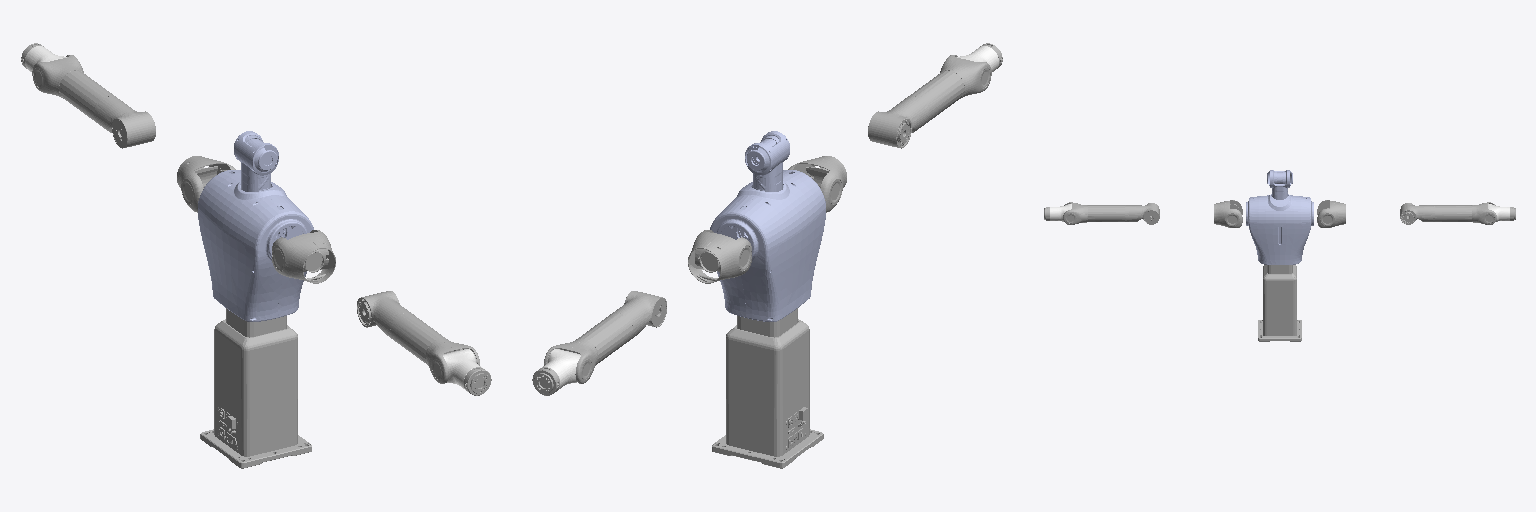
URDF robot description (TDM020-890.SLDASM):
<?xml version="1.0" encoding="utf-8"?>
<!-- This URDF was automatically created by SolidWorks to URDF Exporter! Originally created by Stephen Brawner (brawner@gmail.com) 
     Commit Version: 1.6.0-4-g7f85cfe  Build Version: 1.6.7995.38578
     For more information, please see http://wiki.ros.org/sw_urdf_exporter -->
<robot
  name="TDM020-890.SLDASM">
  <link
    name="base_link">
    <inertial>
      <origin
        xyz="-0.0001495 -3.6027E-06 0.21937"
        rpy="0 0 0" />
      <mass
        value="15.785" />
      <inertia
        ixx="0.33756"
        ixy="-9.7516E-06"
        ixz="-0.00031689"
        iyy="0.33783"
        iyz="-8.008E-07"
        izz="0.090189" />
    </inertial>
    <visual>
      <origin
        xyz="0 0 0"
        rpy="0 0 0" />
      <geometry>
        <mesh
          filename="package://TDM020-890.SLDASM/meshes/base_link.STL" />
      </geometry>
      <material
        name="">
        <color
          rgba="0.75294 0.75294 0.75294 1" />
      </material>
    </visual>
    <collision>
      <origin
        xyz="0 0 0"
        rpy="0 0 0" />
      <geometry>
        <mesh
          filename="package://TDM020-890.SLDASM/meshes/base_link.STL" />
      </geometry>
    </collision>
  </link>
  <link
    name="body_Link">
    <inertial>
      <origin
        xyz="0.00094571 0.00017849 0.17947"
        rpy="0 0 0" />
      <mass
        value="14.446" />
      <inertia
        ixx="0.1966"
        ixy="-2.4774E-07"
        ixz="0.0011953"
        iyy="0.17822"
        iyz="0.00017251"
        izz="0.12295" />
    </inertial>
    <visual>
      <origin
        xyz="0 0 0"
        rpy="0 0 0" />
      <geometry>
        <mesh
          filename="package://TDM020-890.SLDASM/meshes/body_Link.STL" />
      </geometry>
      <material
        name="">
        <color
          rgba="0.79216 0.81961 0.93333 1" />
      </material>
    </visual>
    <collision>
      <origin
        xyz="0 0 0"
        rpy="0 0 0" />
      <geometry>
        <mesh
          filename="package://TDM020-890.SLDASM/meshes/body_Link.STL" />
      </geometry>
    </collision>
  </link>
  <joint
    name="body_Joint"
    type="revolute">
    <origin
      xyz="0 0 0.466"
      rpy="0 0 0" />
    <parent
      link="base_link" />
    <child
      link="body_Link" />
    <axis
      xyz="0 0 1" />
    <limit
      lower="-2.9671"
      upper="2.9671"
      effort="0"
      velocity="0" />
  </joint>
  <link
    name="neck_Link">
    <inertial>
      <origin
        xyz="-0.00033371 -0.0010891 0.027893"
        rpy="0 0 0" />
      <mass
        value="1.1245" />
      <inertia
        ixx="0.0038932"
        ixy="-1.7095E-06"
        ixz="2.1875E-05"
        iyy="0.0034122"
        iyz="6.0516E-05"
        izz="0.0014205" />
    </inertial>
    <visual>
      <origin
        xyz="0 0 0"
        rpy="0 0 0" />
      <geometry>
        <mesh
          filename="package://TDM020-890.SLDASM/meshes/neck_Link.STL" />
      </geometry>
      <material
        name="">
        <color
          rgba="0.79216 0.81961 0.93333 1" />
      </material>
    </visual>
    <collision>
      <origin
        xyz="0 0 0"
        rpy="0 0 0" />
      <geometry>
        <mesh
          filename="package://TDM020-890.SLDASM/meshes/neck_Link.STL" />
      </geometry>
    </collision>
  </link>
  <joint
    name="neck_Joint"
    type="revolute">
    <origin
      xyz="0 0 0.404"
      rpy="0 0 0" />
    <parent
      link="body_Link" />
    <child
      link="neck_Link" />
    <axis
      xyz="0 0 1" />
    <limit
      lower="-1.5708"
      upper="1.5708"
      effort="0"
      velocity="0" />
  </joint>
  <link
    name="head_Link">
    <inertial>
      <origin
        xyz="0.079009 0.0010522 0.010199"
        rpy="0 0 0" />
      <mass
        value="0.65666" />
      <inertia
        ixx="0.0051807"
        ixy="4.6113E-05"
        ixz="0.0001544"
        iyy="0.002422"
        iyz="7.378E-06"
        izz="0.0065769" />
    </inertial>
    <visual>
      <origin
        xyz="0 0 0"
        rpy="0 0 0" />
      <geometry>
        <mesh
          filename="package://TDM020-890.SLDASM/meshes/head_Link.STL" />
      </geometry>
      <material
        name="">
        <color
          rgba="0.75294 0.75294 0.75294 1" />
      </material>
    </visual>
    <collision>
      <origin
        xyz="0 0 0"
        rpy="0 0 0" />
      <geometry>
        <mesh
          filename="package://TDM020-890.SLDASM/meshes/head_Link.STL" />
      </geometry>
    </collision>
  </link>
  <joint
    name="head_Joint"
    type="revolute">
    <origin
      xyz="0 0 0.0755"
      rpy="0 0 0" />
    <parent
      link="neck_Link" />
    <child
      link="head_Link" />
    <axis
      xyz="0 1 0" />
    <limit
      lower="-0.78539"
      upper="0.48869"
      effort="0"
      velocity="0" />
  </joint>
  <link
    name="left arm base_Link">
    <inertial>
      <origin
        xyz="0.0010944 0.10318 0.00096001"
        rpy="0 0 0" />
      <mass
        value="1.6113" />
      <inertia
        ixx="0.0061621"
        ixy="-8.3896E-05"
        ixz="1.617E-06"
        iyy="0.0024512"
        iyz="-2.8093E-05"
        izz="0.0061822" />
    </inertial>
    <visual>
      <origin
        xyz="0 0 0"
        rpy="0 0 0" />
      <geometry>
        <mesh
          filename="package://TDM020-890.SLDASM/meshes/left arm base_Link.STL" />
      </geometry>
      <material
        name="">
        <color
          rgba="0.75294 0.75294 0.75294 1" />
      </material>
    </visual>
    <collision>
      <origin
        xyz="0 0 0"
        rpy="0 0 0" />
      <geometry>
        <mesh
          filename="package://TDM020-890.SLDASM/meshes/left arm base_Link.STL" />
      </geometry>
    </collision>
  </link>
  <joint
    name="left arm base_Joint"
    type="revolute">
    <origin
      xyz="0 0.1127 0.262"
      rpy="0 0 0" />
    <parent
      link="body_Link" />
    <child
      link="left arm base_Link" />
    <axis
      xyz="0 1 0" />
    <limit
      lower="-2.9671"
      upper="2.9671"
      effort="0"
      velocity="0" />
  </joint>
  <link
    name="left shoulder_Link">
    <inertial>
      <origin
        xyz="-0.000538982573944719 0.0173300425857268 -0.00107715239347117"
        rpy="0 0 0" />
      <mass
        value="0.608892487155027" />
      <inertia
        ixx="0.00143992130190144"
        ixy="-7.82951546310692E-06"
        ixz="-2.16912679083468E-06"
        iyy="0.00261755275283589"
        iyz="-6.10436839419332E-05"
        izz="0.00300247370189256" />
    </inertial>
    <visual>
      <origin
        xyz="0 0 0"
        rpy="0 0 0" />
      <geometry>
        <mesh
          filename="package://TDM020-890.SLDASM/meshes/left shoulder_Link.STL" />
      </geometry>
      <material
        name="">
        <color
          rgba="0.752941176470588 0.752941176470588 0.752941176470588 1" />
      </material>
    </visual>
    <collision>
      <origin
        xyz="0 0 0"
        rpy="0 0 0" />
      <geometry>
        <mesh
          filename="package://TDM020-890.SLDASM/meshes/left shoulder_Link.STL" />
      </geometry>
    </collision>
  </link>
  <joint
    name="left shoulder_Joint"
    type="revolute">
    <origin
      xyz="0 0.1523 0"
      rpy="0 0 0" />
    <parent
      link="left arm base_Link" />
    <child
      link="left shoulder_Link" />
    <axis
      xyz="1 0 0" />
    <limit
      lower="-1.5708"
      upper="0.52359"
      effort="0"
      velocity="0" />
  </joint>
  <link
    name="left arm 1_Link">
    <inertial>
      <origin
        xyz="0.000597144263033743 0.0949423265822045 0.000705988249386169"
        rpy="0 0 0" />
      <mass
        value="1.48192609711033" />
      <inertia
        ixx="0.00379093634508639"
        ixy="9.65238119276592E-07"
        ixz="-3.59680287640811E-06"
        iyy="0.00223978782873642"
        iyz="-3.25468438033175E-05"
        izz="0.00364611038977401" />
    </inertial>
    <visual>
      <origin
        xyz="0 0 0"
        rpy="0 0 0" />
      <geometry>
        <mesh
          filename="package://TDM020-890.SLDASM/meshes/left arm 1_Link.STL" />
      </geometry>
      <material
        name="">
        <color
          rgba="0.772549019607843 0.752941176470588 0.733333333333333 1" />
      </material>
    </visual>
    <collision>
      <origin
        xyz="0 0 0"
        rpy="0 0 0" />
      <geometry>
        <mesh
          filename="package://TDM020-890.SLDASM/meshes/left arm 1_Link.STL" />
      </geometry>
    </collision>
  </link>
  <joint
    name="left arm 1_Joint"
    type="revolute">
    <origin
      xyz="0 0.1045 0"
      rpy="0 0 0" />
    <parent
      link="left shoulder_Link" />
    <child
      link="left arm 1_Link" />
    <axis
      xyz="0 1 0" />
    <limit
      lower="-2.7053"
      upper="2.7053"
      effort="0"
      velocity="0" />
  </joint>
  <link
    name="left arm 2_Link">
    <inertial>
      <origin
        xyz="0.000114336410574647 0.114506794118008 0.000903757611068645"
        rpy="0 0 0" />
      <mass
        value="1.60587175550599" />
      <inertia
        ixx="0.0202783083213348"
        ixy="1.89421731684835E-05"
        ixz="-7.9286303052035E-09"
        iyy="0.0017763892225382"
        iyz="0.000104210861964569"
        izz="0.0203774102170405" />
    </inertial>
    <visual>
      <origin
        xyz="0 0 0"
        rpy="0 0 0" />
      <geometry>
        <mesh
          filename="package://TDM020-890.SLDASM/meshes/left arm 2_Link.STL" />
      </geometry>
      <material
        name="">
        <color
          rgba="0.752941176470588 0.752941176470588 0.752941176470588 1" />
      </material>
    </visual>
    <collision>
      <origin
        xyz="0 0 0"
        rpy="0 0 0" />
      <geometry>
        <mesh
          filename="package://TDM020-890.SLDASM/meshes/left arm 2_Link.STL" />
      </geometry>
    </collision>
  </link>
  <joint
    name="left arm 2_Joint"
    type="revolute">
    <origin
      xyz="0 0.3455 0"
      rpy="0 0 0" />
    <parent
      link="left arm 1_Link" />
    <child
      link="left arm 2_Link" />
    <axis
      xyz="1 0 0" />
    <limit
      lower="-2.0944"
      upper="0.52359"
      effort="0"
      velocity="0" />
  </joint>
  <link
    name="left wrist 1_Link">
    <inertial>
      <origin
        xyz="-0.000126439258697366 0.0540428643424122 0.00133769576061538"
        rpy="0 0 0" />
      <mass
        value="0.292165661424284" />
      <inertia
        ixx="0.000469324584383462"
        ixy="6.89772110222396E-06"
        ixz="5.9246823221093E-07"
        iyy="0.000633054742992921"
        iyz="-7.87027707461064E-06"
        izz="0.00082086344901152" />
    </inertial>
    <visual>
      <origin
        xyz="0 0 0"
        rpy="0 0 0" />
      <geometry>
        <mesh
          filename="package://TDM020-890.SLDASM/meshes/left wrist 1_Link.STL" />
      </geometry>
      <material
        name="">
        <color
          rgba="0.752941176470588 0.752941176470588 0.752941176470588 1" />
      </material>
    </visual>
    <collision>
      <origin
        xyz="0 0 0"
        rpy="0 0 0" />
      <geometry>
        <mesh
          filename="package://TDM020-890.SLDASM/meshes/left wrist 1_Link.STL" />
      </geometry>
    </collision>
  </link>
  <joint
    name="left wrist 1_Joint"
    type="revolute">
    <origin
      xyz="0 0.3565 0"
      rpy="0 0 0" />
    <parent
      link="left arm 2_Link" />
    <child
      link="left wrist 1_Link" />
    <axis
      xyz="0 1 0" />
    <limit
      lower="-2.9322"
      upper="2.9322"
      effort="0"
      velocity="0" />
  </joint>
  <link
    name="left wrist 2_Link">
    <inertial>
      <origin
        xyz="0.000474516908238931 0.0384898179200883 -0.000147883576470775"
        rpy="0 0 0" />
      <mass
        value="0.89246599313403" />
      <inertia
        ixx="0.00213690080463157"
        ixy="1.82237073011047E-05"
        ixz="-1.81630130576625E-08"
        iyy="0.000929510723686978"
        iyz="-3.76497194559588E-06"
        izz="0.00223095731902122" />
    </inertial>
    <visual>
      <origin
        xyz="0 0 0"
        rpy="0 0 0" />
      <geometry>
        <mesh
          filename="package://TDM020-890.SLDASM/meshes/left wrist 2_Link.STL" />
      </geometry>
      <material
        name="">
        <color
          rgba="1 1 1 1" />
      </material>
    </visual>
    <collision>
      <origin
        xyz="0 0 0"
        rpy="0 0 0" />
      <geometry>
        <mesh
          filename="package://TDM020-890.SLDASM/meshes/left wrist 2_Link.STL" />
      </geometry>
    </collision>
  </link>
  <joint
    name="left wrist 2_Joint"
    type="revolute">
    <origin
      xyz="0 0.0935 0"
      rpy="0 0 0" />
    <parent
      link="left wrist 1_Link" />
    <child
      link="left wrist 2_Link" />
    <axis
      xyz="1 0 0" />
    <limit
      lower="-1.7453"
      upper="0.52359"
      effort="0"
      velocity="0" />
  </joint>
  <link
    name="left end_Link">
    <inertial>
      <origin
        xyz="0.000965834520563217 -0.0133015585802281 -0.00010877404844567"
        rpy="0 0 0" />
      <mass
        value="0.0819378994474746" />
      <inertia
        ixx="4.30414187493962E-05"
        ixy="1.94230088965366E-07"
        ixz="-8.56249890754313E-09"
        iyy="7.87142213896821E-05"
        iyz="4.0365869056371E-08"
        izz="4.30915923685773E-05" />
    </inertial>
    <visual>
      <origin
        xyz="0 0 0"
        rpy="0 0 0" />
      <geometry>
        <mesh
          filename="package://TDM020-890.SLDASM/meshes/left end_Link.STL" />
      </geometry>
      <material
        name="">
        <color
          rgba="0.752941176470588 0.752941176470588 0.752941176470588 1" />
      </material>
    </visual>
    <collision>
      <origin
        xyz="0 0 0"
        rpy="0 0 0" />
      <geometry>
        <mesh
          filename="package://TDM020-890.SLDASM/meshes/left end_Link.STL" />
      </geometry>
    </collision>
  </link>
  <joint
    name="left end_Joint"
    type="revolute">
    <origin
      xyz="0 0.1468 0"
      rpy="0 0 0" />
    <parent
      link="left wrist 2_Link" />
    <child
      link="left end_Link" />
    <axis
      xyz="0 1 0" />
    <limit
      lower="-2.9671"
      upper="2.9671"
      effort="0"
      velocity="0" />
  </joint>
  <link
    name="right arm base_Link">
    <inertial>
      <origin
        xyz="-0.00109442049872643 -0.103384245859721 0.000960013007773375"
        rpy="0 0 0" />
      <mass
        value="1.61129930115573" />
      <inertia
        ixx="0.00616213603438663"
        ixy="-8.38964954122542E-05"
        ixz="-1.61699048989172E-06"
        iyy="0.0024511652495309"
        iyz="2.80929000355463E-05"
        izz="0.00618224997287986" />
    </inertial>
    <visual>
      <origin
        xyz="0 0 0"
        rpy="0 0 0" />
      <geometry>
        <mesh
          filename="package://TDM020-890.SLDASM/meshes/right arm base_Link.STL" />
      </geometry>
      <material
        name="">
        <color
          rgba="0.752941176470588 0.752941176470588 0.752941176470588 1" />
      </material>
    </visual>
    <collision>
      <origin
        xyz="0 0 0"
        rpy="0 0 0" />
      <geometry>
        <mesh
          filename="package://TDM020-890.SLDASM/meshes/right arm base_Link.STL" />
      </geometry>
    </collision>
  </link>
  <joint
    name="right arm base_Joint"
    type="revolute">
    <origin
      xyz="0 -0.1125 0.262"
      rpy="0 0 0" />
    <parent
      link="body_Link" />
    <child
      link="right arm base_Link" />
    <axis
      xyz="0 1 0" />
    <limit
      lower="-2.9671"
      upper="2.9671"
      effort="0"
      velocity="0" />
  </joint>
  <link
    name="right shoulder_Link">
    <inertial>
      <origin
        xyz="0.000538982573952542 -0.017330042585724 -0.00107715239346984"
        rpy="0 0 0" />
      <mass
        value="0.608892487155033" />
      <inertia
        ixx="0.00143992130190146"
        ixy="-7.82951546311883E-06"
        ixz="2.16912679083652E-06"
        iyy="0.00261755275283591"
        iyz="6.10436839419283E-05"
        izz="0.00300247370189259" />
    </inertial>
    <visual>
      <origin
        xyz="0 0 0"
        rpy="0 0 0" />
      <geometry>
        <mesh
          filename="package://TDM020-890.SLDASM/meshes/right shoulder_Link.STL" />
      </geometry>
      <material
        name="">
        <color
          rgba="0.752941176470588 0.752941176470588 0.752941176470588 1" />
      </material>
    </visual>
    <collision>
      <origin
        xyz="0 0 0"
        rpy="0 0 0" />
      <geometry>
        <mesh
          filename="package://TDM020-890.SLDASM/meshes/right shoulder_Link.STL" />
      </geometry>
    </collision>
  </link>
  <joint
    name="right shoulder_Joint"
    type="revolute">
    <origin
      xyz="0 -0.1525 0"
      rpy="0 0 0" />
    <parent
      link="right arm base_Link" />
    <child
      link="right shoulder_Link" />
    <axis
      xyz="1 0 0" />
    <limit
      lower="-0.52359"
      upper="1.5708"
      effort="0"
      velocity="0" />
  </joint>
  <link
    name="right arm 1_Link">
    <inertial>
      <origin
        xyz="-0.000597144936156915 -0.0949423361889213 0.00070598870137617"
        rpy="0 0 0" />
      <mass
        value="1.48192615809275" />
      <inertia
        ixx="0.00379093664225144"
        ixy="9.65238805700784E-07"
        ixz="3.59682112419083E-06"
        iyy="0.00223978789898773"
        iyz="3.25468087466055E-05"
        izz="0.00364611063794924" />
    </inertial>
    <visual>
      <origin
        xyz="0 0 0"
        rpy="0 0 0" />
      <geometry>
        <mesh
          filename="package://TDM020-890.SLDASM/meshes/right arm 1_Link.STL" />
      </geometry>
      <material
        name="">
        <color
          rgba="0.772549019607843 0.752941176470588 0.733333333333333 1" />
      </material>
    </visual>
    <collision>
      <origin
        xyz="0 0 0"
        rpy="0 0 0" />
      <geometry>
        <mesh
          filename="package://TDM020-890.SLDASM/meshes/right arm 1_Link.STL" />
      </geometry>
    </collision>
  </link>
  <joint
    name="right arm 1_Joint"
    type="revolute">
    <origin
      xyz="0 -0.1045 0"
      rpy="0 0 0" />
    <parent
      link="right shoulder_Link" />
    <child
      link="right arm 1_Link" />
    <axis
      xyz="0 1 0" />
    <limit
      lower="-2.7053"
      upper="2.7053"
      effort="0"
      velocity="0" />
  </joint>
  <link
    name="right arm 2_Link">
    <inertial>
      <origin
        xyz="-0.000114336396297215 -0.114506794151252 0.000903757616892098"
        rpy="0 0 0" />
      <mass
        value="1.60587175458856" />
      <inertia
        ixx="0.0202783083174942"
        ixy="1.89421716823876E-05"
        ixz="7.9288795780646E-09"
        iyy="0.00177638922182561"
        iyz="-0.000104210862567194"
        izz="0.0203774102126887" />
    </inertial>
    <visual>
      <origin
        xyz="0 0 0"
        rpy="0 0 0" />
      <geometry>
        <mesh
          filename="package://TDM020-890.SLDASM/meshes/right arm 2_Link.STL" />
      </geometry>
      <material
        name="">
        <color
          rgba="0.752941176470588 0.752941176470588 0.752941176470588 1" />
      </material>
    </visual>
    <collision>
      <origin
        xyz="0 0 0"
        rpy="0 0 0" />
      <geometry>
        <mesh
          filename="package://TDM020-890.SLDASM/meshes/right arm 2_Link.STL" />
      </geometry>
    </collision>
  </link>
  <joint
    name="right arm 2_Joint"
    type="revolute">
    <origin
      xyz="0 -0.3455 0"
      rpy="0 0 0" />
    <parent
      link="right arm 1_Link" />
    <child
      link="right arm 2_Link" />
    <axis
      xyz="1 0 0" />
    <limit
      lower="-0.52359"
      upper="2.0944"
      effort="0"
      velocity="0" />
  </joint>
  <link
    name="right wrist 1_Link">
    <inertial>
      <origin
        xyz="0.000126493526399926 -0.0540428219525493 0.00133765665977292"
        rpy="0 0 0" />
      <mass
        value="0.292165194026126" />
      <inertia
        ixx="0.00046932380052778"
        ixy="6.89814704882718E-06"
        ixz="-5.92971778662775E-07"
        iyy="0.000633053915430105"
        iyz="7.87004757176997E-06"
        izz="0.000820862064136897" />
    </inertial>
    <visual>
      <origin
        xyz="0 0 0"
        rpy="0 0 0" />
      <geometry>
        <mesh
          filename="package://TDM020-890.SLDASM/meshes/right wrist 1_Link.STL" />
      </geometry>
      <material
        name="">
        <color
          rgba="0.752941176470588 0.752941176470588 0.752941176470588 1" />
      </material>
    </visual>
    <collision>
      <origin
        xyz="0 0 0"
        rpy="0 0 0" />
      <geometry>
        <mesh
          filename="package://TDM020-890.SLDASM/meshes/right wrist 1_Link.STL" />
      </geometry>
    </collision>
  </link>
  <joint
    name="right wrist 1_Joint"
    type="revolute">
    <origin
      xyz="0 -0.3565 0"
      rpy="0 0 0" />
    <parent
      link="right arm 2_Link" />
    <child
      link="right wrist 1_Link" />
    <axis
      xyz="0 1 0" />
    <limit
      lower="-2.9322"
      upper="2.9322"
      effort="0"
      velocity="0" />
  </joint>
  <link
    name="right wrist 2_Link">
    <inertial>
      <origin
        xyz="-0.000474516908101898 -0.0384898179201247 -0.000147883576102847"
        rpy="0 0 0" />
      <mass
        value="0.892465993167534" />
      <inertia
        ixx="0.00213690080462963"
        ixy="1.82237072931998E-05"
        ixz="1.81630091399321E-08"
        iyy="0.000929510723731179"
        iyz="3.76497194747255E-06"
        izz="0.00223095731906988" />
    </inertial>
    <visual>
      <origin
        xyz="0 0 0"
        rpy="0 0 0" />
      <geometry>
        <mesh
          filename="package://TDM020-890.SLDASM/meshes/right wrist 2_Link.STL" />
      </geometry>
      <material
        name="">
        <color
          rgba="1 1 1 1" />
      </material>
    </visual>
    <collision>
      <origin
        xyz="0 0 0"
        rpy="0 0 0" />
      <geometry>
        <mesh
          filename="package://TDM020-890.SLDASM/meshes/right wrist 2_Link.STL" />
      </geometry>
    </collision>
  </link>
  <joint
    name="right wrist 2_Joint"
    type="revolute">
    <origin
      xyz="0 -0.0935 0"
      rpy="0 0 0" />
    <parent
      link="right wrist 1_Link" />
    <child
      link="right wrist 2_Link" />
    <axis
      xyz="1 0 0" />
    <limit
      lower="-0.52359"
      upper="1.7453"
      effort="0"
      velocity="0" />
  </joint>
  <link
    name="right end_Link">
    <inertial>
      <origin
        xyz="0.000965834520602477 0.0133015585802365 0.000108774048447335"
        rpy="0 0 0" />
      <mass
        value="0.0819378994474764" />
      <inertia
        ixx="4.3041418749396E-05"
        ixy="-1.94230088965914E-07"
        ixz="8.5624989071922E-09"
        iyy="7.8714221389684E-05"
        iyz="4.03658690562699E-08"
        izz="4.30915923685793E-05" />
    </inertial>
    <visual>
      <origin
        xyz="0 0 0"
        rpy="0 0 0" />
      <geometry>
        <mesh
          filename="package://TDM020-890.SLDASM/meshes/right end_Link.STL" />
      </geometry>
      <material
        name="">
        <color
          rgba="0.752941176470588 0.752941176470588 0.752941176470588 1" />
      </material>
    </visual>
    <collision>
      <origin
        xyz="0 0 0"
        rpy="0 0 0" />
      <geometry>
        <mesh
          filename="package://TDM020-890.SLDASM/meshes/right end_Link.STL" />
      </geometry>
    </collision>
  </link>
  <joint
    name="right end_Joint"
    type="revolute">
    <origin
      xyz="0 -0.1468 0"
      rpy="0 0 0" />
    <parent
      link="right wrist 2_Link" />
    <child
      link="right end_Link" />
    <axis
      xyz="0 1 0" />
    <limit
      lower="-2.9671"
      upper="2.9671"
      effort="0"
      velocity="0" />
  </joint>
</robot>

--- Render facts (derived) ---
The picture shows the robot from 3 angles, left to right: view 1: azimuth 30°, elevation 25°; view 2: azimuth 150°, elevation 25°; view 3: azimuth 270°, elevation 25°; orthographic projection.
Model TDM020-890.SLDASM with 18 links and 17 joints (17 revolute), rooted at base_link, posed every joint at zero.
Visible links, largest first — view 1: base_link, body_Link, left arm 2_Link, right arm 2_Link, right shoulder_Link, neck_Link, left shoulder_Link, left wrist 1_Link, right wrist 1_Link, right wrist 2_Link, right end_Link; view 2: base_link, body_Link, right arm 2_Link, left arm 2_Link, left shoulder_Link, neck_Link, right shoulder_Link, right wrist 1_Link, left wrist 1_Link, left wrist 2_Link, left end_Link; view 3: body_Link, base_link, right arm 2_Link, left arm 2_Link, left shoulder_Link, right shoulder_Link, neck_Link.
Boxes of the visible links, x1=… form: base_link: x1=200, y1=308, x2=311, y2=468; body_Link: x1=198, y1=170, x2=313, y2=321; left arm 2_Link: x1=59, y1=70, x2=155, y2=148; right arm 2_Link: x1=357, y1=291, x2=447, y2=364; right shoulder_Link: x1=272, y1=230, x2=335, y2=283; neck_Link: x1=234, y1=131, x2=278, y2=191; left shoulder_Link: x1=177, y1=156, x2=235, y2=212; left wrist 1_Link: x1=32, y1=55, x2=83, y2=98; right wrist 1_Link: x1=426, y1=339, x2=479, y2=383; right wrist 2_Link: x1=443, y1=349, x2=483, y2=391; right end_Link: x1=464, y1=367, x2=491, y2=395; base_link: x1=712, y1=308, x2=823, y2=468; body_Link: x1=710, y1=170, x2=825, y2=321; right arm 2_Link: x1=868, y1=70, x2=964, y2=148; left arm 2_Link: x1=576, y1=291, x2=666, y2=364; left shoulder_Link: x1=688, y1=230, x2=751, y2=283; neck_Link: x1=745, y1=131, x2=789, y2=191; right shoulder_Link: x1=788, y1=156, x2=846, y2=212; right wrist 1_Link: x1=940, y1=55, x2=991, y2=98; left wrist 1_Link: x1=544, y1=339, x2=597, y2=383; left wrist 2_Link: x1=540, y1=349, x2=580, y2=391; left end_Link: x1=532, y1=367, x2=559, y2=395; body_Link: x1=1246, y1=194, x2=1313, y2=264; base_link: x1=1258, y1=265, x2=1301, y2=341; right arm 2_Link: x1=1088, y1=203, x2=1159, y2=224; left arm 2_Link: x1=1400, y1=203, x2=1471, y2=224; left shoulder_Link: x1=1317, y1=200, x2=1345, y2=227; right shoulder_Link: x1=1214, y1=200, x2=1242, y2=227; neck_Link: x1=1267, y1=170, x2=1292, y2=199.
Size in the robot's own frame: 0.245 by 2.62 by 0.9905 metres.
13 mesh visuals loaded from 18 distinct referenced files (13 binary STL); not drawn: 5 (reference not matched to a file when rendering).
